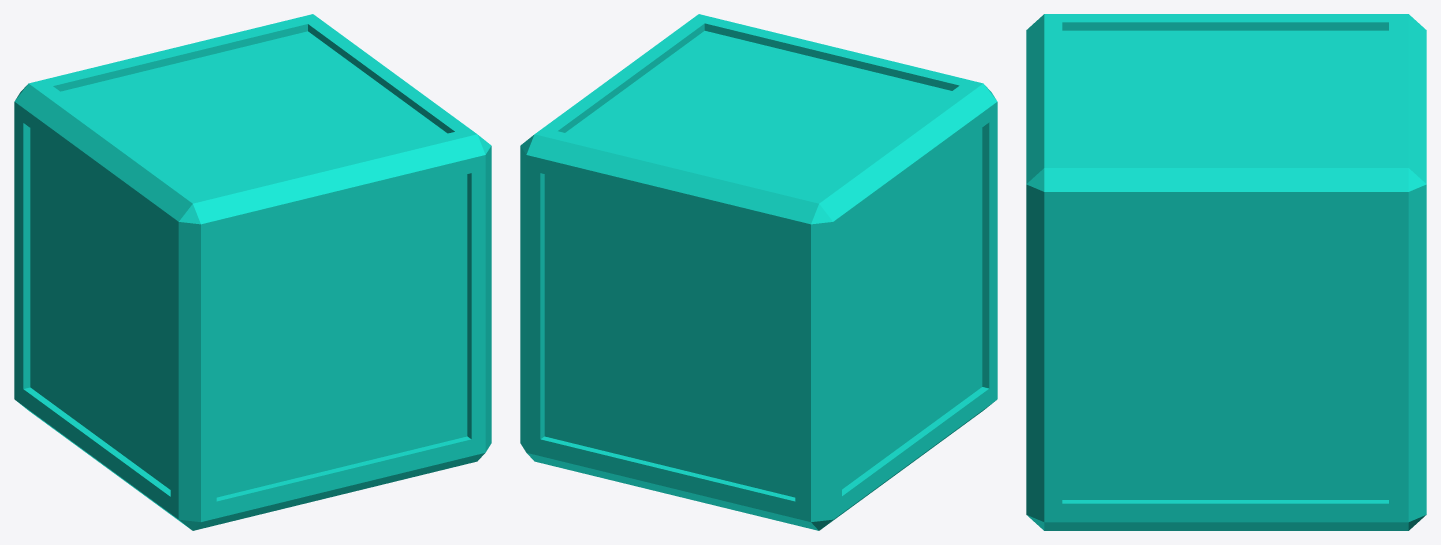
3 renders of one model, left to right at view 1: azimuth 30°, elevation 25°; view 2: azimuth 150°, elevation 25°; view 3: azimuth 270°, elevation 25°, orthographic. The views are drawn at different scales.
Visible parts, largest first — view 1: Barril.004; view 2: Barril.004; view 3: Barril.004.
Boxes of the visible parts, left/top/right/bottom form: Barril.004: left=14, top=14, right=491, bottom=530; Barril.004: left=520, top=14, right=997, bottom=530; Barril.004: left=1026, top=14, right=1426, bottom=530.
Bounding box in the file's own units: 0.2273 × 0.2273 × 0.2273.
